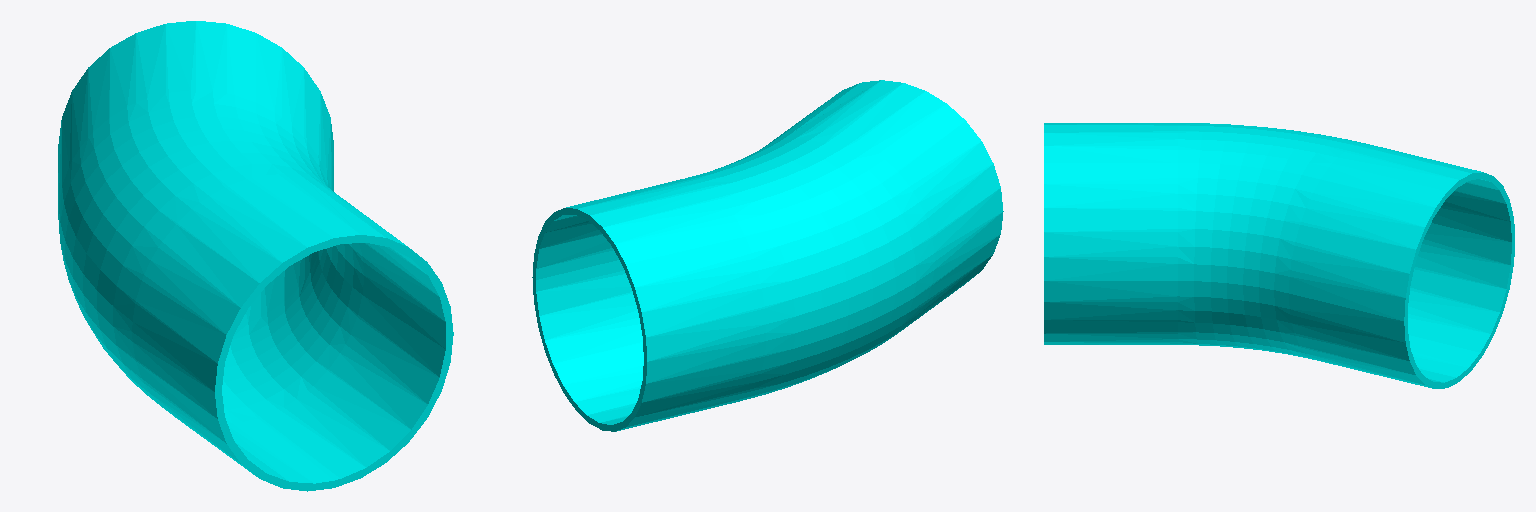
The robot description file, URDF, robot "tunnel":
<?xml version="0.0" ?>
<robot name="tunnel">
    <link name="tunnel">
        <contact>
            <lateral_friction value="1"/>
        </contact>

        <inertial>
            <origin xyz="0 0 0" rpy="0 0 0"/>
            <mass value="0.0"/>
            <inertia ixx="0"  ixy="0"  ixz="0" iyy="0" iyz="0" izz="0" />
        </inertial>

        <visual>
            <origin xyz="0 0 0" rpy="0 0 0" />
            <geometry>
                <mesh filename="package://scene/meshes/tunnel.STL"/>
            </geometry>
            <material name="Cyan">
                <color rgba="0 1.0 1.0 1.0"/>
            </material>
        </visual>

        <collision>
            <origin xyz="0 0 0" rpy="0 0 0"/>
            <geometry>
                <mesh filename="package://scene/meshes/tunnel.STL"/>
            </geometry>
        </collision>
    </link>
</robot>

--- What the picture shows (computed from the rendered views, not written in the file) ---
3 views of the same robot in one strip: view 1: azimuth 30°, elevation 25°; view 2: azimuth 150°, elevation 25°; view 3: azimuth 270°, elevation 25° (orthographic).
Model tunnel with 1 links and 0 joints (none), rooted at tunnel, posed every joint at zero.
Visible links, largest first — view 1: tunnel; view 2: tunnel; view 3: tunnel.
Link boxes in pixels (bbox=[...]): tunnel: bbox=[58, 21, 453, 491]; tunnel: bbox=[532, 80, 1003, 431]; tunnel: bbox=[1044, 123, 1514, 388].
Bounding box of the posed robot: 1.43 × 2.12 × 1 m (x, y, z).
1 mesh visuals loaded from 1 distinct referenced files (1 binary STL).